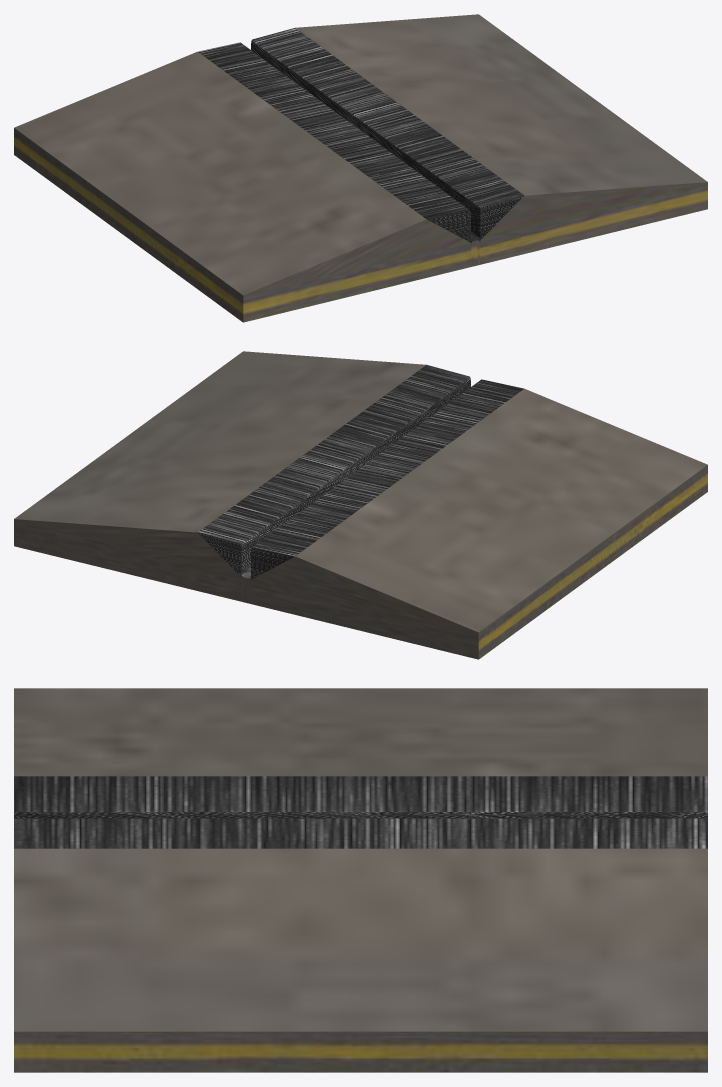
Rendered from 训练沟渠.fbx.
3 views of the same model, one above another, from view 1: azimuth 30°, elevation 25°; view 2: azimuth 150°, elevation 25°; view 3: azimuth 270°, elevation 25° (orthographic). The views are drawn at different scales.
Parts seen in each view (by area): view 1: pCube1; view 2: pCube1; view 3: pCube1.
Boxes of the visible parts, x1,y1,x2,y2 form: pCube1: [14, 14, 707, 322]; pCube1: [14, 351, 707, 659]; pCube1: [14, 688, 707, 1072].
Size of the model in its own units: 74.4 by 8.95 by 63.55.
